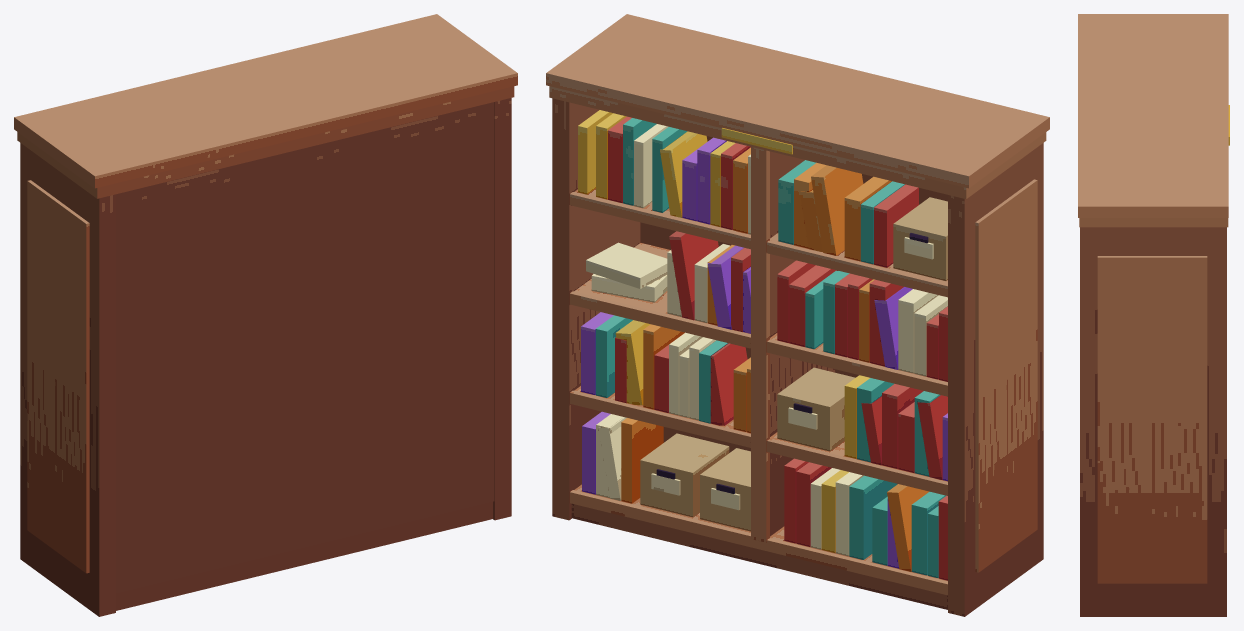
Rendered from cabinet.gltf.
3 views of the same model, side by side, from view 1: azimuth 30°, elevation 25°; view 2: azimuth 150°, elevation 25°; view 3: azimuth 270°, elevation 25° (orthographic). The views are drawn at different scales.
Parts seen in each view (by area): view 1: back_panel, cornice_top, side_inset_left, side_panel_left, side_panel_right, plinth, cornice_mould; view 2: cornice_top, side_inset_left, side_panel_left, side_panel_right, divider_lip, plinth, shelf1_lip, shelf2_lip, shelf3_lip, shelf4_lip, cornice_mould, divider (+81 smaller); view 3: side_inset_right, cornice_top, side_panel_right, cornice_mould.
Boxes of the visible parts, x1,y1,x2,y2 form: back_panel: [116, 102, 494, 593]; cornice_top: [14, 14, 517, 188]; side_inset_left: [27, 180, 89, 573]; side_panel_left: [20, 143, 115, 616]; side_panel_right: [493, 98, 511, 520]; plinth: [116, 501, 493, 610]; cornice_mould: [17, 86, 514, 198]; cornice_top: [546, 14, 1049, 188]; side_inset_left: [975, 179, 1037, 572]; side_panel_left: [948, 143, 1043, 616]; side_panel_right: [552, 98, 640, 520]; divider_lip: [751, 147, 769, 542]; plinth: [571, 503, 947, 609]; shelf1_lip: [569, 490, 947, 595]; shelf2_lip: [569, 390, 947, 495]; shelf3_lip: [569, 291, 947, 396]; shelf4_lip: [569, 192, 947, 297]; cornice_mould: [549, 86, 1046, 198]; divider: [770, 151, 835, 536]; side_inset_right: [1097, 256, 1207, 583]; cornice_top: [1078, 14, 1228, 217]; side_panel_right: [1080, 227, 1226, 616]; cornice_mould: [1079, 218, 1228, 227].
Bounding box in the file's own units: 2.41 × 2.41 × 0.8026.
Materials: 3 (3 with a texture image).
